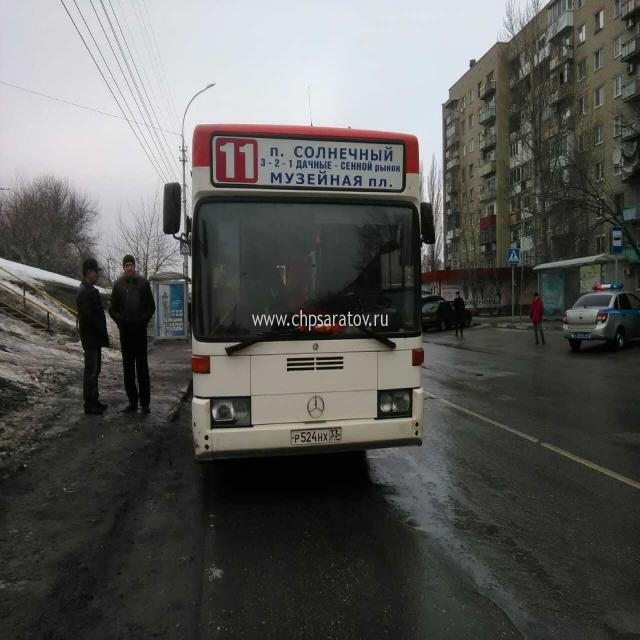number-of-bus: (218, 137, 259, 183)
